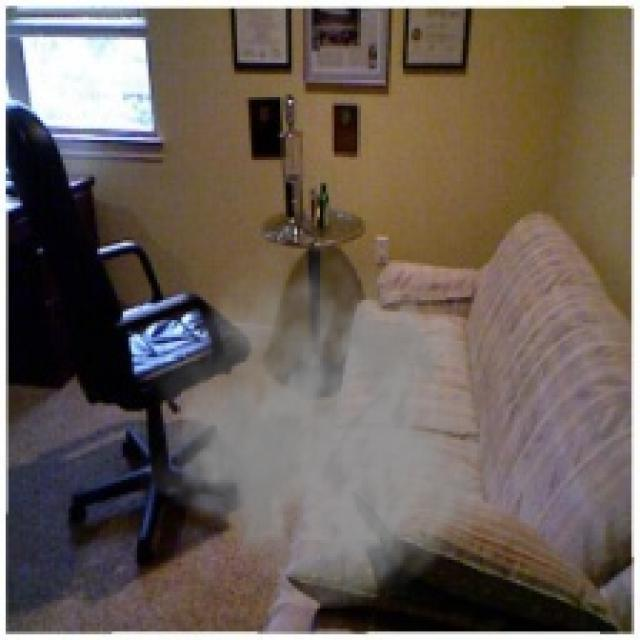Smoke: (140, 226, 506, 612)
